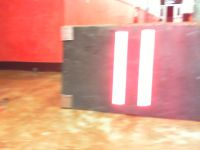switch: (136, 29, 156, 107), (111, 31, 129, 105)
